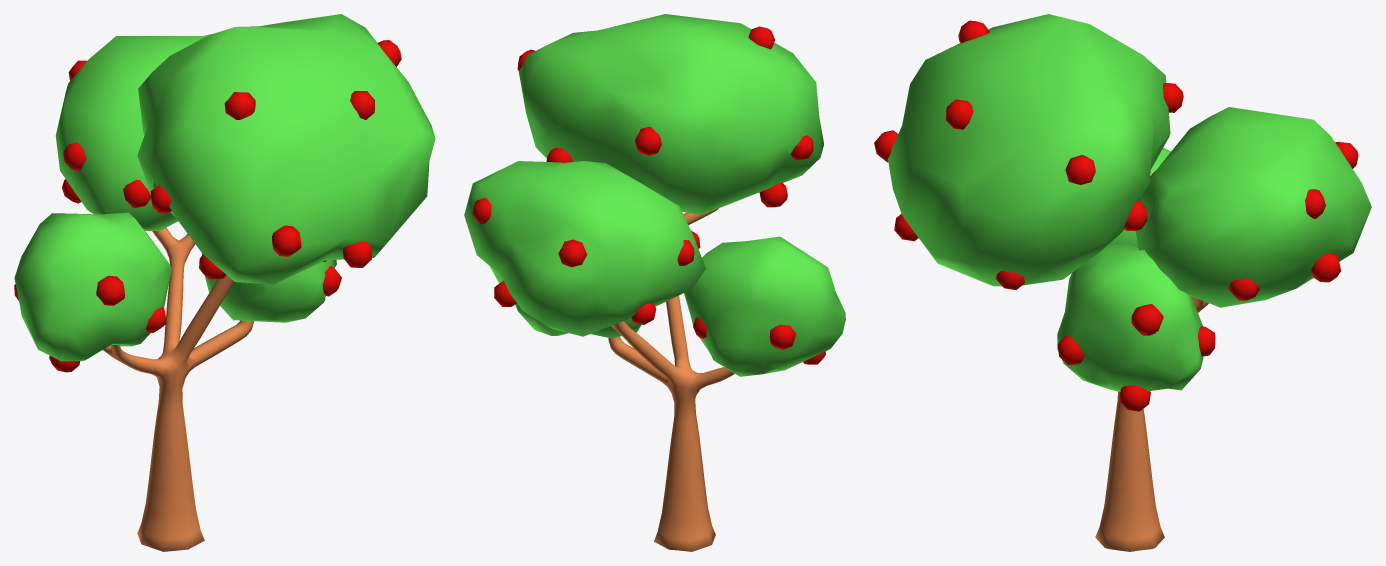
The model's file is Apple Tree (1).fbx.
3 renders of one model, left to right at view 1: azimuth 30°, elevation 25°; view 2: azimuth 150°, elevation 25°; view 3: azimuth 270°, elevation 25°, orthographic. The views are drawn at different scales.
Parts seen in each view (by area): view 1: Leaves4, Leaves3, Leaves1, Tree, Apples, Leaves2; view 2: Leaves4, Leaves1, Leaves3, Tree, Apples, Leaves2; view 3: Leaves4, Leaves1, Leaves2, Apples, Tree.
Part boxes in pixels (bbox=[...]): Leaves4: bbox=[137, 14, 435, 284]; Leaves3: bbox=[14, 212, 171, 361]; Leaves1: bbox=[55, 34, 211, 230]; Tree: bbox=[103, 227, 253, 551]; Apples: bbox=[14, 40, 401, 372]; Leaves2: bbox=[202, 253, 336, 322]; Leaves4: bbox=[519, 14, 823, 215]; Leaves1: bbox=[464, 161, 705, 336]; Leaves3: bbox=[684, 236, 845, 376]; Tree: bbox=[608, 208, 734, 551]; Apples: bbox=[472, 26, 825, 364]; Leaves2: bbox=[515, 303, 641, 338]; Leaves4: bbox=[888, 14, 1170, 286]; Leaves1: bbox=[1135, 107, 1371, 307]; Leaves2: bbox=[1057, 244, 1203, 391]; Apples: bbox=[874, 20, 1358, 411]; Tree: bbox=[1095, 296, 1208, 551].
Size of the model in its own units: 446 by 619 by 518.
